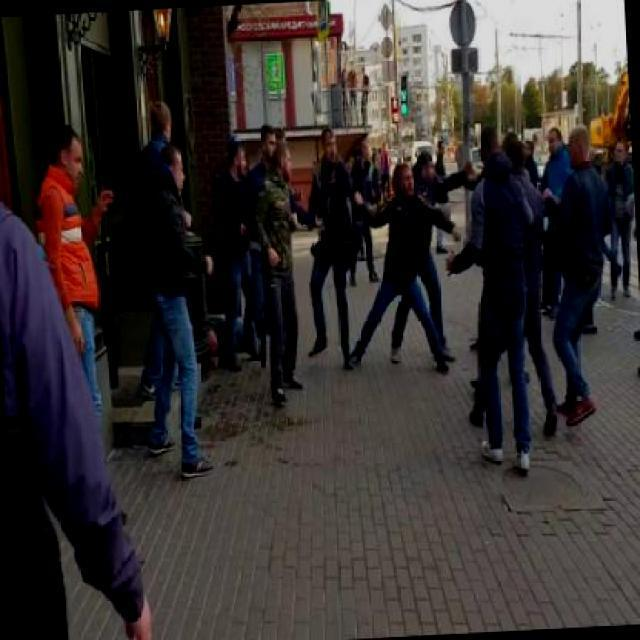fight: (353, 154, 481, 368)
non-fight: (126, 92, 222, 482), (212, 122, 306, 406), (542, 124, 621, 430), (298, 125, 360, 368)
